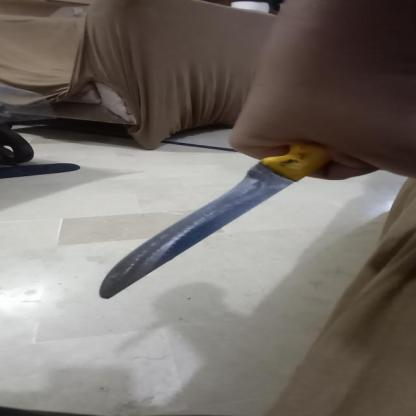Knife: (90, 135, 384, 302)
